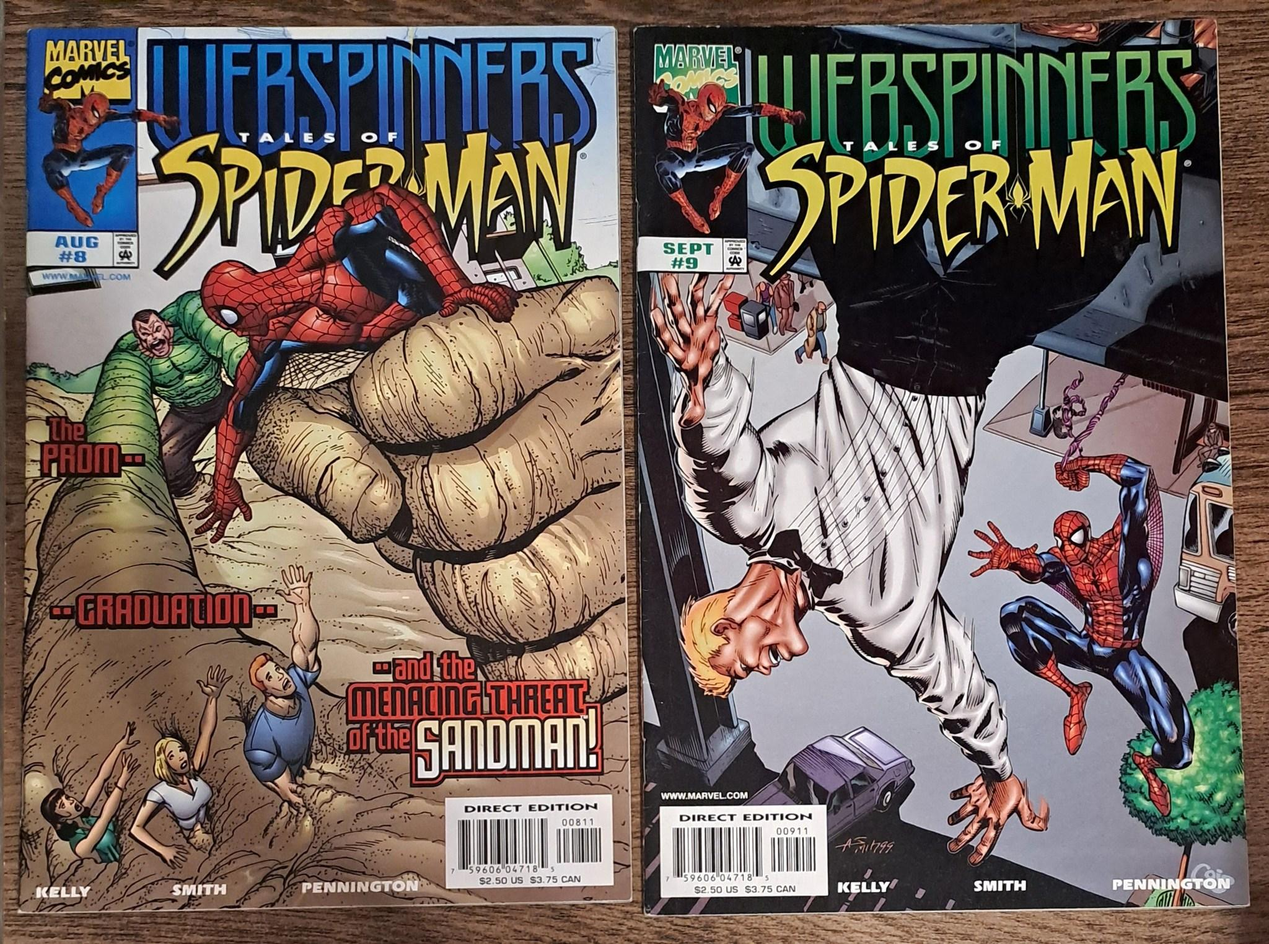comic: (631, 18, 1248, 915), (13, 26, 630, 912)
